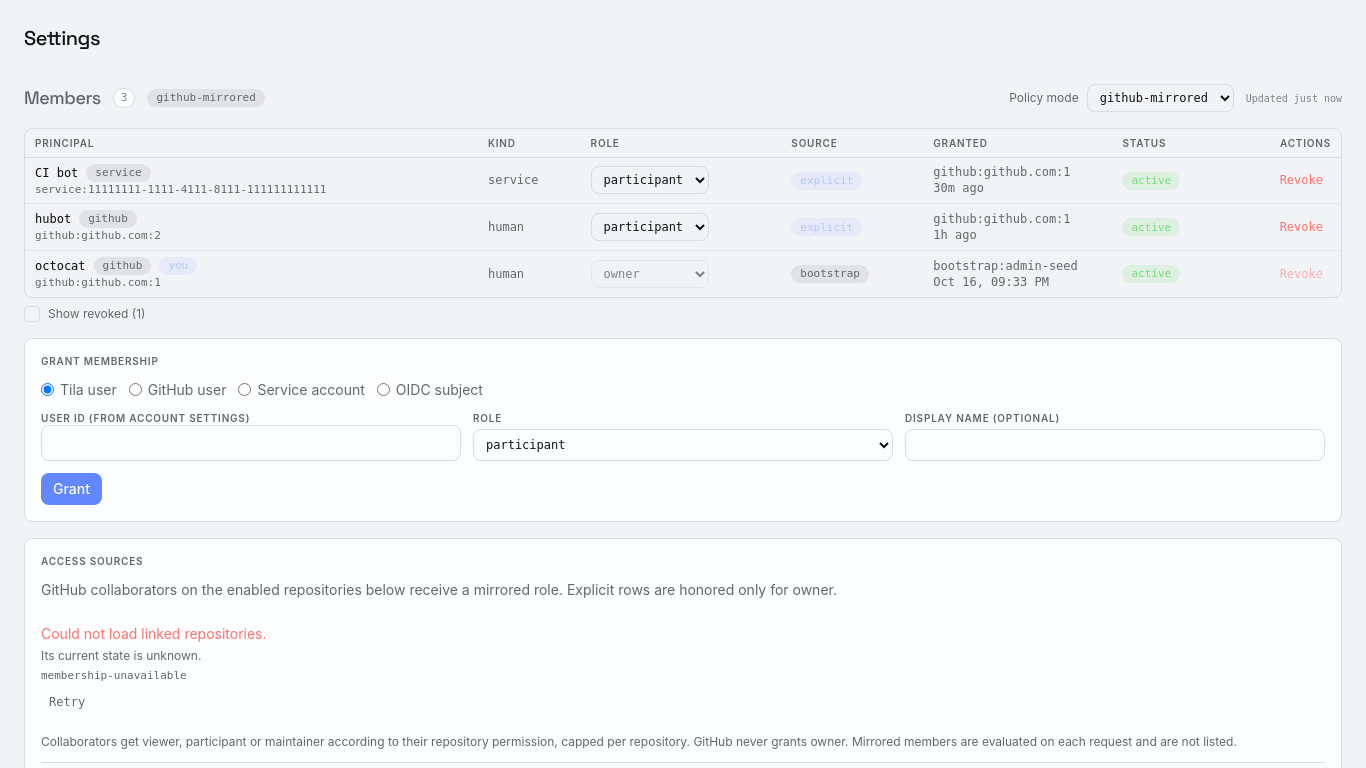
Scenario: SettingsPage failure states › a failed repositories request is an error, not 'no repositories linked'
Expected: the message shows "Could not load linked repositories.", [41,625,267,714]
Click the button "Retry".
click(67, 702)  # box [41,690,93,714]
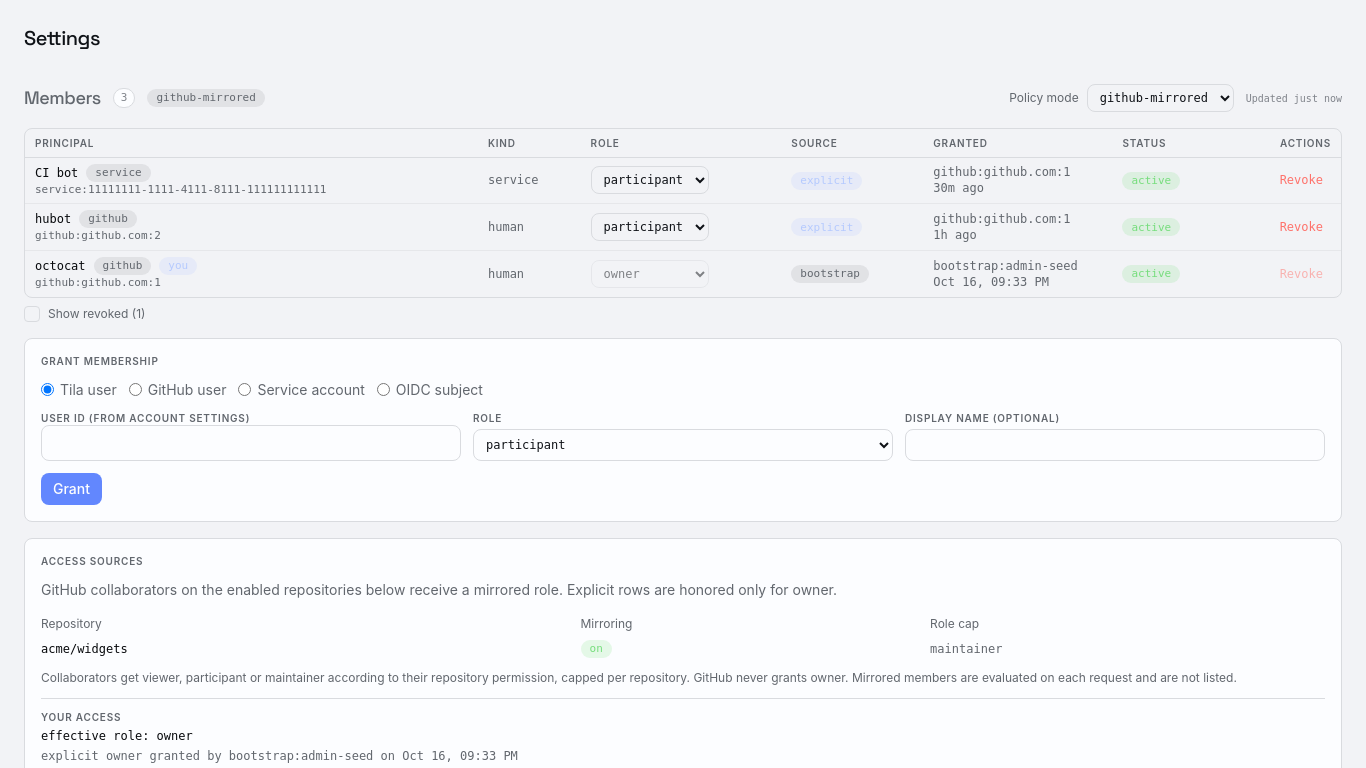
Expected: the table named "Linked repositories" is shown, [41,612,1325,662]
